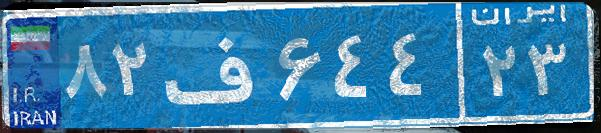2: (475, 38, 525, 113), (110, 28, 158, 105)
3: (525, 38, 570, 115)
4: (385, 28, 445, 110), (330, 28, 385, 110)
6: (273, 28, 330, 110)
8: (57, 26, 110, 107)
ف: (158, 15, 273, 115)
